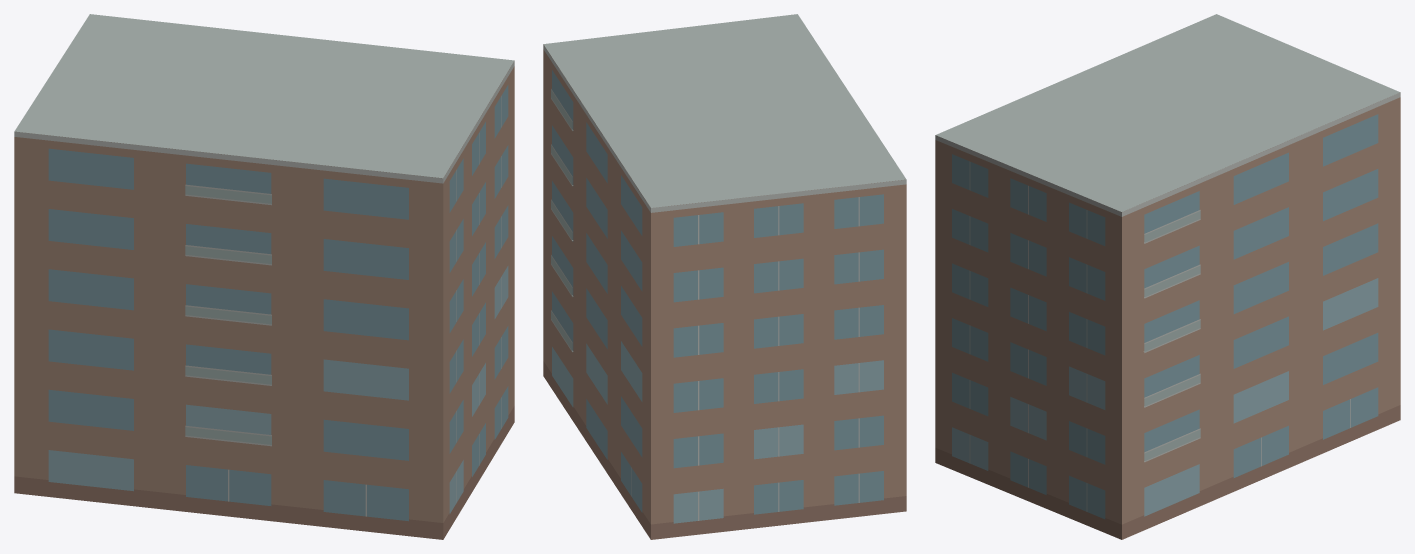
File: survey-upis-32747437.glb
3 renders of one model, left to right at view 1: azimuth 30°, elevation 25°; view 2: azimuth 150°, elevation 25°; view 3: azimuth 270°, elevation 25°, orthographic. The views are drawn at different scales.
Visible parts, largest first — view 1: survey-upis-32747437.tmp; view 2: survey-upis-32747437.tmp; view 3: survey-upis-32747437.tmp.
Part boxes in pixels (x1,y1,x2,y2): survey-upis-32747437.tmp: (14,14,514,539); survey-upis-32747437.tmp: (543,14,906,539); survey-upis-32747437.tmp: (935,14,1400,539).
Size of the model in its own units: 21.53 by 16.6 by 21.36.
